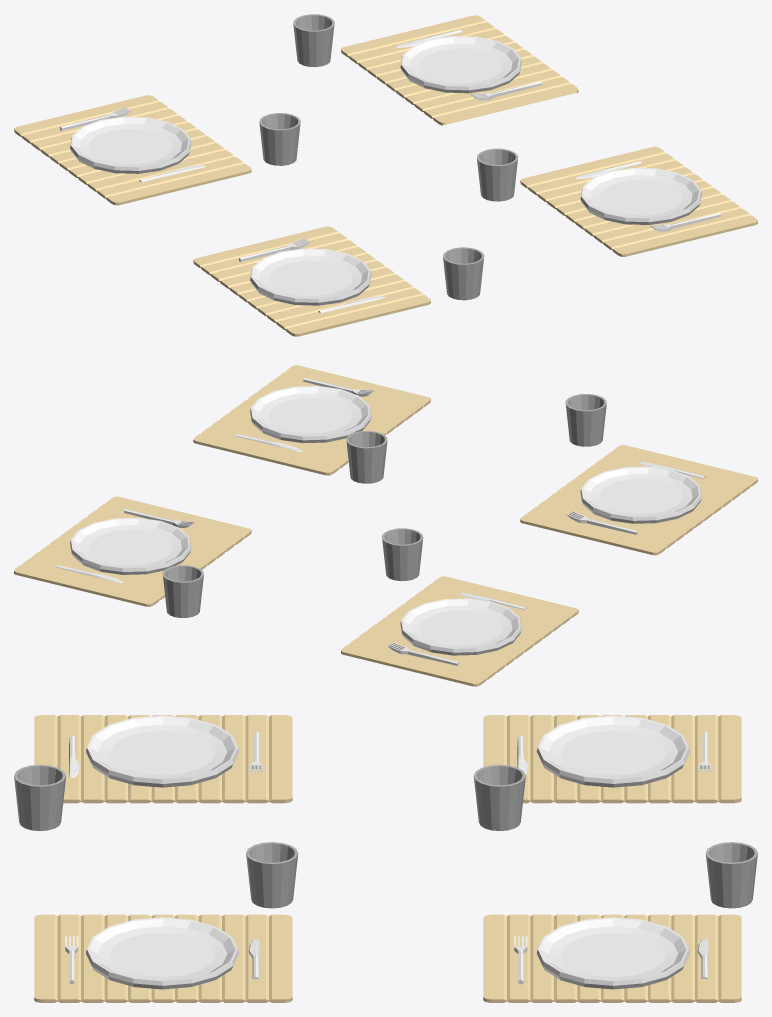
Rendered from KitchenStuffModified.fbx.
3 views of the same model, one above another, from view 1: azimuth 30°, elevation 25°; view 2: azimuth 150°, elevation 25°; view 3: azimuth 270°, elevation 25° (orthographic). The views are drawn at different scales.
Visible parts, largest first — view 1: Kitchen Stuff.009, Kitchen Stuff.017, Kitchen Stuff.002, Kitchen Stuff.013, Kitchen Stuff.012, Kitchen Stuff.001, Kitchen Stuff.019, Kitchen Stuff.007, Kitchen Stuff.006, Kitchen Stuff.015, Kitchen Stuff.016, Kitchen Stuff.005; view 2: Kitchen Stuff.002, Kitchen Stuff.017, Kitchen Stuff.009, Kitchen Stuff.013, Kitchen Stuff.001, Kitchen Stuff.019, Kitchen Stuff.012, Kitchen Stuff.007, Kitchen Stuff.005, Kitchen Stuff.006, Kitchen Stuff.015, Kitchen Stuff.016; view 3: Kitchen Stuff.013, Kitchen Stuff.009, Kitchen Stuff.002, Kitchen Stuff.017, Kitchen Stuff.001, Kitchen Stuff.019, Kitchen Stuff.007, Kitchen Stuff.012, Kitchen Stuff.006, Kitchen Stuff.015, Kitchen Stuff.005, Kitchen Stuff.016.
Part boxes in pixels (<box>): Kitchen Stuff.009: <box>520,146,757,256</box>; Kitchen Stuff.017: <box>14,95,251,205</box>; Kitchen Stuff.002: <box>193,226,430,336</box>; Kitchen Stuff.013: <box>341,15,578,125</box>; Kitchen Stuff.012: <box>400,36,521,93</box>; Kitchen Stuff.001: <box>250,248,371,305</box>; Kitchen Stuff.019: <box>70,116,191,173</box>; Kitchen Stuff.007: <box>580,168,701,224</box>; Kitchen Stuff.006: <box>477,148,518,201</box>; Kitchen Stuff.015: <box>293,14,334,66</box>; Kitchen Stuff.016: <box>259,113,300,165</box>; Kitchen Stuff.005: <box>443,247,484,300</box>; Kitchen Stuff.002: <box>520,445,757,555</box>; Kitchen Stuff.017: <box>341,576,578,686</box>; Kitchen Stuff.009: <box>193,365,430,475</box>; Kitchen Stuff.013: <box>14,496,251,606</box>; Kitchen Stuff.001: <box>580,466,701,523</box>; Kitchen Stuff.019: <box>400,598,521,655</box>; Kitchen Stuff.012: <box>70,517,191,574</box>; Kitchen Stuff.007: <box>250,386,371,443</box>; Kitchen Stuff.005: <box>565,394,606,446</box>; Kitchen Stuff.006: <box>346,430,387,483</box>; Kitchen Stuff.015: <box>162,565,203,617</box>; Kitchen Stuff.016: <box>382,528,423,581</box>; Kitchen Stuff.013: <box>483,914,741,1002</box>; Kitchen Stuff.009: <box>34,914,292,1002</box>; Kitchen Stuff.002: <box>34,715,292,803</box>; Kitchen Stuff.017: <box>483,715,741,803</box>; Kitchen Stuff.001: <box>86,715,239,787</box>; Kitchen Stuff.019: <box>536,715,689,787</box>; Kitchen Stuff.007: <box>86,917,239,989</box>; Kitchen Stuff.012: <box>536,917,689,989</box>; Kitchen Stuff.006: <box>246,842,298,908</box>; Kitchen Stuff.015: <box>705,842,757,908</box>; Kitchen Stuff.005: <box>14,764,66,830</box>; Kitchen Stuff.016: <box>473,764,525,830</box>.
Size of the model in its own units: 153 by 11.91 by 169.
